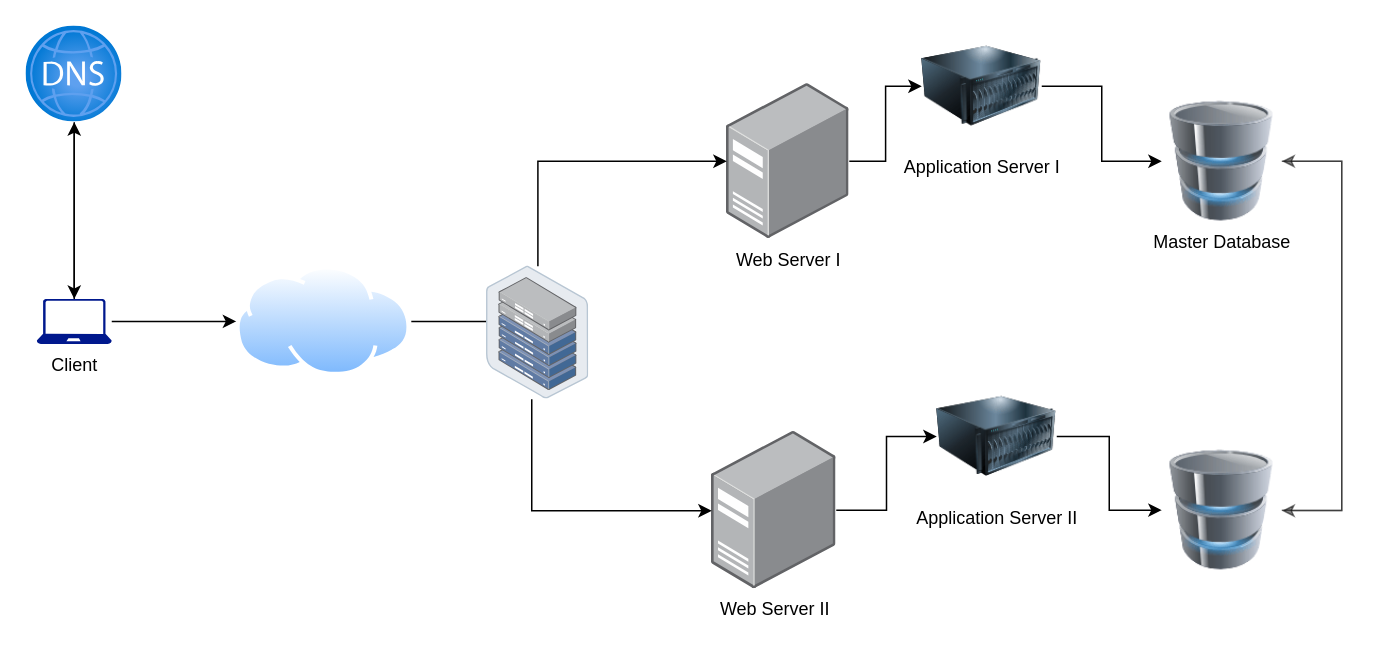
The diagram is 1380 pixels wide and 647 high, and some of its shapes have lost their labels. The centre of each missing label's shape, as x and y in pixels:
"Auxillary Database" belongs at (x=1221, y=509).
"Internet" belongs at (x=323, y=321).
"Load Balancer" belongs at (x=537, y=332).
